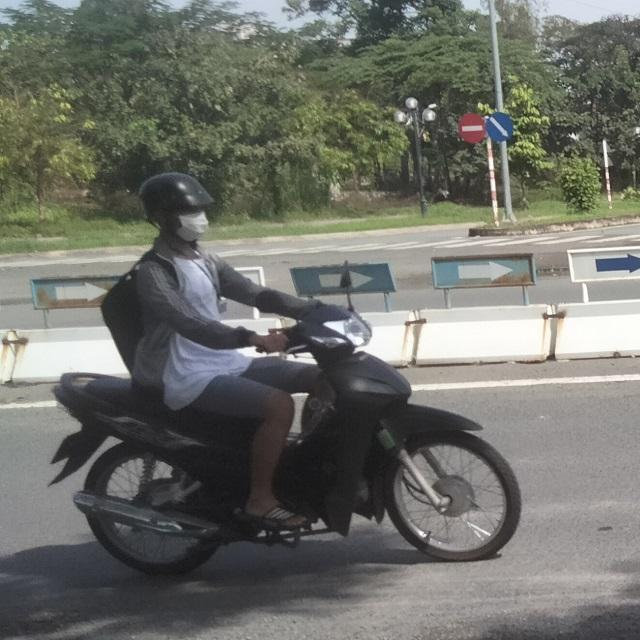Helmet: (136, 165, 216, 255)
